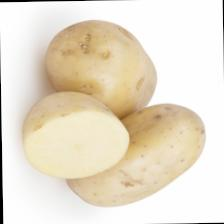potato: (61, 102, 206, 208), (42, 17, 158, 122), (18, 90, 130, 180)
